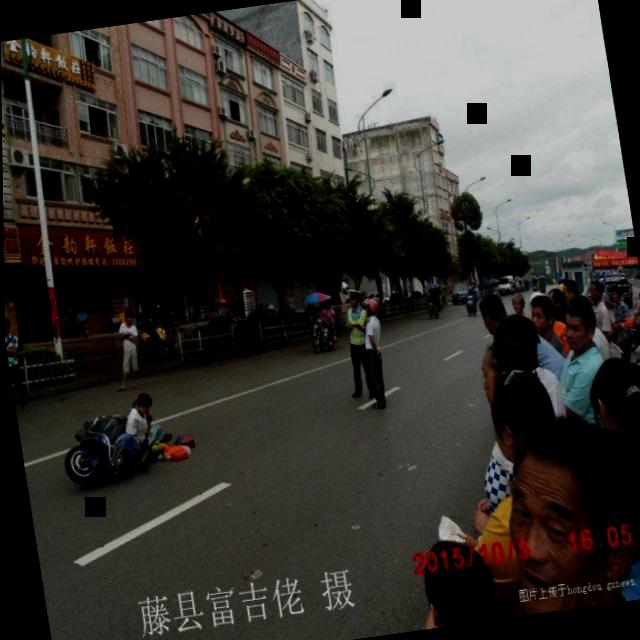Fall-Detected: (108, 381, 199, 475)
